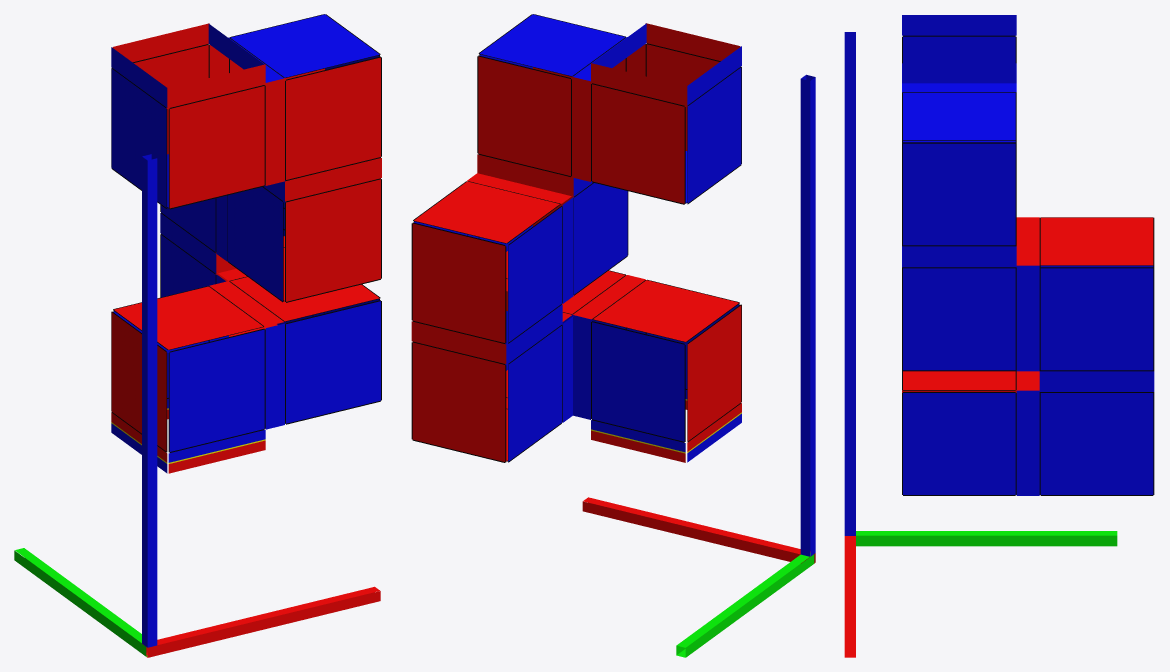
File: expensive_h.gltf
The picture shows the model from 3 angles, left to right: view 1: azimuth 30°, elevation 25°; view 2: azimuth 150°, elevation 25°; view 3: azimuth 270°, elevation 25°; orthographic projection. The views are drawn at different scales.
Parts seen in each view (by area): view 1: spider(0, 0, 1):-J, spider(0, 0, 3):-J, spider(1, 0, 3):-J, spider(1, 0, 1):-J, spider(1, 0, 2):-J, spider(1, 0, 3):+K, axisK:-J, spider(0, 0, 3):-I, spider(1, 0, 2):-I, spider(0, 0, 1):+K, spider(0, 0, 1):-I, axisK:-I (+20 smaller); view 2: spider(1, 1, 1):+J, spider(1, 1, 2):+J, spider(0, 0, 3):+J, spider(0, 0, 1):+J, spider(1, 0, 3):+J, spider(0, 0, 3):-I, spider(0, 0, 1):-I, spider(1, 1, 1):-I, spider(1, 1, 2):-I, spider(1, 0, 3):+K, spider(0, 0, 1):+K, spider(1, 1, 2):+K (+24 smaller); view 3: spider(1, 1, 2):+I, spider(1, 0, 2):+I, spider(1, 0, 3):+I, spider(1, 1, 1):+I, spider(1, 0, 1):+I, axisK:+I, spider(1, 1, 2):+K, spider(1, 0, 3):+K, edgeJ(1, 0, 2):+I (×2), spider(0, 0, 3):-I, axisJ:+I, edgeJ(1, 0, 1):+I (+9 smaller).
Part boxes in pixels (box(x1,y1,x2,y2)): spider(0, 0, 1):-J: box(168, 328, 265, 452); spider(0, 0, 3):-J: box(168, 85, 265, 209); spider(1, 0, 3):-J: box(285, 56, 381, 180); spider(1, 0, 1):-J: box(285, 300, 381, 424); spider(1, 0, 2):-J: box(285, 178, 381, 302); spider(1, 0, 3):+K: box(229, 14, 380, 77); axisK:-J: box(147, 158, 157, 647); spider(0, 0, 3):-I: box(111, 68, 167, 208); spider(1, 0, 2):-I: box(227, 186, 283, 302); spider(0, 0, 1):+K: box(113, 286, 263, 349); spider(0, 0, 1):-I: box(111, 311, 167, 452); axisK:-I: box(142, 156, 147, 647); spider(1, 1, 1):+J: box(411, 341, 506, 462); spider(1, 1, 2):+J: box(411, 222, 506, 343); spider(0, 0, 3):+J: box(591, 83, 685, 204); spider(0, 0, 1):+J: box(591, 321, 685, 442); spider(1, 0, 3):+J: box(477, 55, 571, 176); spider(0, 0, 3):-I: box(687, 66, 741, 204); spider(0, 0, 1):-I: box(687, 304, 741, 442); spider(1, 1, 1):-I: box(508, 325, 562, 462); spider(1, 1, 2):-I: box(508, 206, 562, 343); spider(1, 0, 3):+K: box(478, 14, 626, 76); spider(0, 0, 1):+K: box(592, 279, 739, 342); spider(1, 1, 2):+K: box(413, 181, 560, 243); spider(1, 1, 2):+I: box(1039, 267, 1154, 371); spider(1, 0, 2):+I: box(902, 267, 1016, 371); spider(1, 0, 3):+I: box(902, 142, 1016, 246); spider(1, 1, 1):+I: box(1039, 392, 1154, 495); spider(1, 0, 1):+I: box(902, 392, 1016, 495); axisK:+I: box(844, 36, 855, 535); spider(1, 1, 2):+K: box(1039, 217, 1154, 265); spider(1, 0, 3):+K: box(902, 92, 1016, 140); edgeJ(1, 0, 2):+I (×2): box(902, 246, 1039, 371); spider(0, 0, 3):-I: box(902, 35, 1016, 92); axisJ:+I: box(856, 536, 1117, 546); edgeJ(1, 0, 1):+I: box(1016, 392, 1039, 495).
Bounding box in the file's own units: 2.71 × 5.3 × 2.71.
